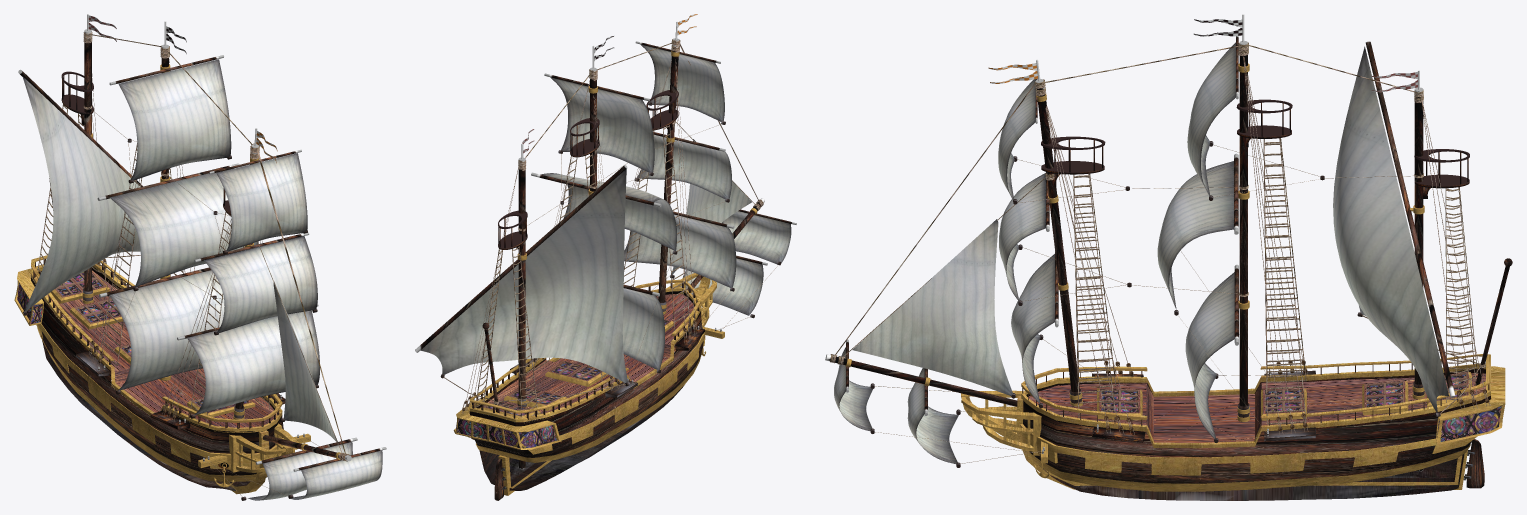
File: ship_07.glb
The picture shows the model from 3 angles, left to right: view 1: azimuth 30°, elevation 25°; view 2: azimuth 150°, elevation 25°; view 3: azimuth 270°, elevation 25°; orthographic projection. The views are drawn at different scales.
Visible parts, largest first — view 1: Object_17, Object_10, Object_18, Object_3, Object_12, Object_16, Object_23, Object_4; view 2: Object_17, Object_18, Object_10, Object_12, Object_3, Object_23, Object_16, Object_4; view 3: Object_17, Object_18, Object_10, Object_12, Object_3, Object_16, Object_23, Object_4.
Boxes of the visible parts, <box> form: Object_17: <box>22,59,382,500</box>; Object_10: <box>14,64,340,494</box>; Object_18: <box>18,29,386,475</box>; Object_3: <box>47,270,276,427</box>; Object_12: <box>26,32,349,496</box>; Object_16: <box>23,138,318,500</box>; Object_23: <box>33,71,285,429</box>; Object_4: <box>17,272,247,411</box>; Object_17: <box>420,44,791,382</box>; Object_18: <box>415,38,796,500</box>; Object_10: <box>453,51,757,495</box>; Object_12: <box>442,39,778,417</box>; Object_3: <box>483,294,694,421</box>; Object_23: <box>472,90,704,419</box>; Object_16: <box>440,102,781,490</box>; Object_4: <box>456,321,667,448</box>; Object_17: <box>834,42,1448,463</box>; Object_18: <box>825,36,1512,488</box>; Object_10: <box>845,63,1505,491</box>; Object_12: <box>830,42,1490,463</box>; Object_3: <box>1028,371,1485,442</box>; Object_16: <box>870,141,1464,500</box>; Object_23: <box>1022,99,1489,442</box>; Object_4: <box>1101,374,1501,442</box>.
Bounding box in the file's own units: 14.72 × 30.4 × 40.01.
Materials: 15 (14 with a texture image).
